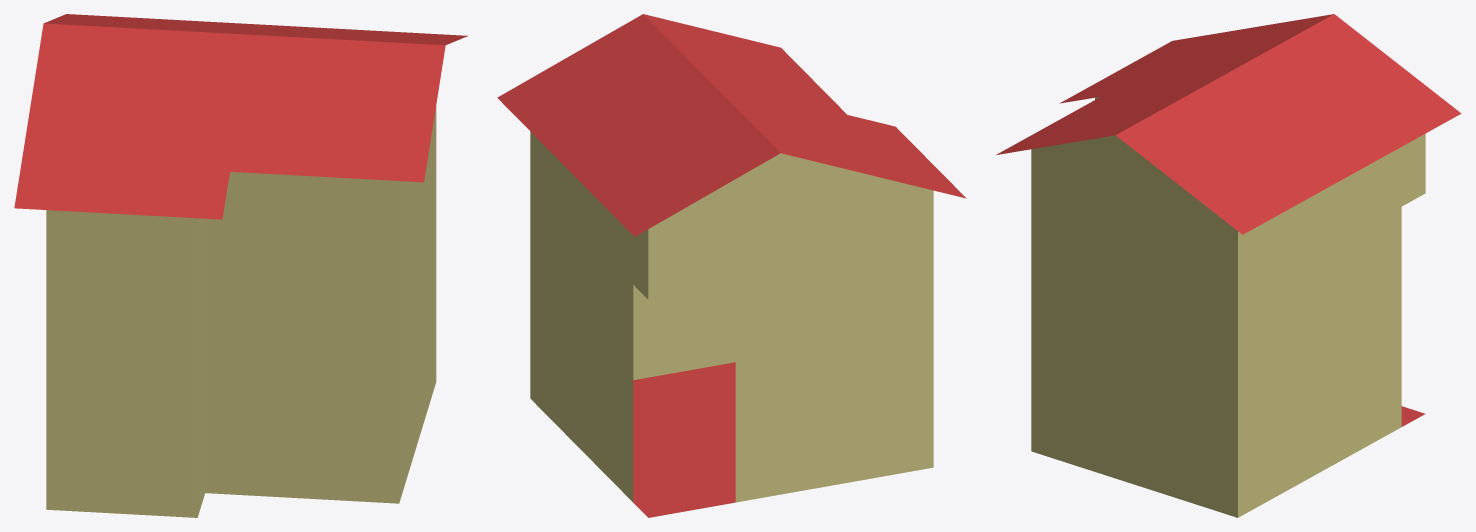
3 views of the same model, side by side, from view 1: azimuth 30°, elevation 25°; view 2: azimuth 150°, elevation 25°; view 3: azimuth 270°, elevation 25° (orthographic). The views are drawn at different scales.
Parts seen in each view (by area): view 1: group_5, group_3, group_4; view 2: group_5, group_3, group_6, group_4; view 3: group_5, group_3, group_4.
Boxes of the visible parts, x1,y1,x2,y2 form: group_5: [46, 106, 436, 517]; group_3: [14, 17, 444, 219]; group_4: [44, 14, 467, 182]; group_5: [530, 131, 933, 502]; group_3: [503, 14, 966, 226]; group_6: [633, 362, 735, 517]; group_4: [497, 14, 857, 236]; group_5: [1031, 97, 1425, 517]; group_3: [1031, 14, 1425, 233]; group_4: [996, 14, 1461, 234].
Size of the model in its own units: 14.88 by 13.67 by 11.54.
